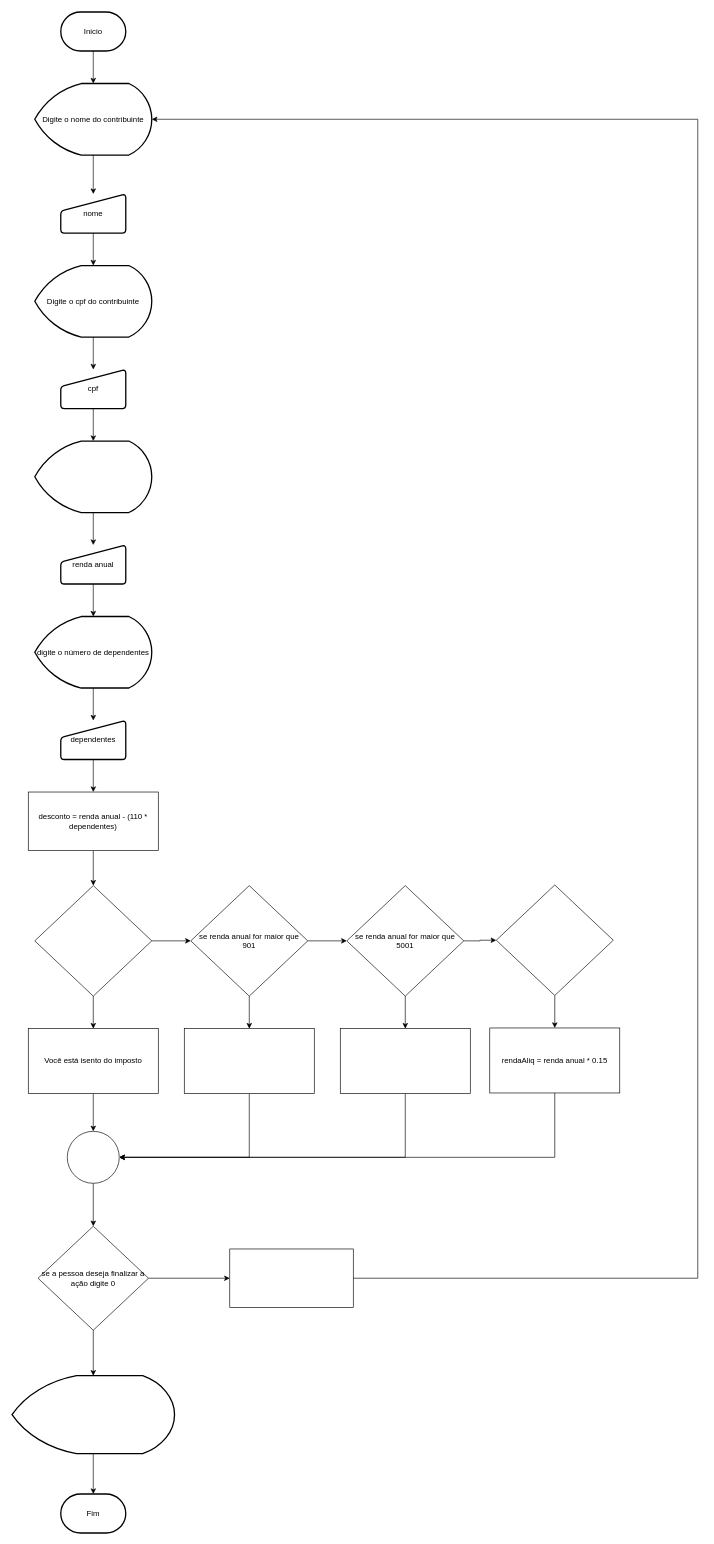
Image size: 714x1544. Some labels were removed from this diagram. Here are the shapes that lost their labels. From the top down, the centre of each, then its label:
At (x=93, y=476): "digite a renda anual do contribuinte".
At (x=93, y=940): "se renda anual for menor que 900".
At (x=554, y=939): "se renda anual for maior que 10001".
At (x=249, y=1061): "rendaAliq = renda anual * 0.05".
At (x=405, y=1061): "rendaAliq = renda anual * 0.1".
At (x=291, y=1277): "O código volta do inicio".
At (x=93, y=1414): "Valor do imposto a ser pago renda anual com os descontos número de dependentes".
